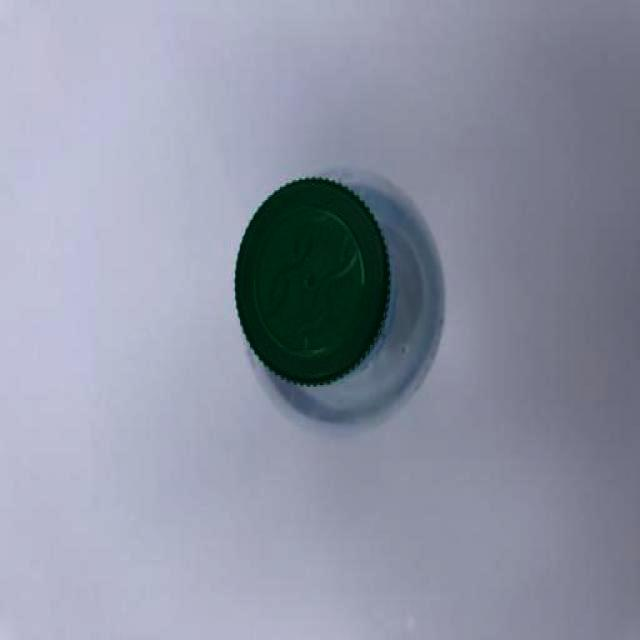bottle: (233, 176, 446, 437)
